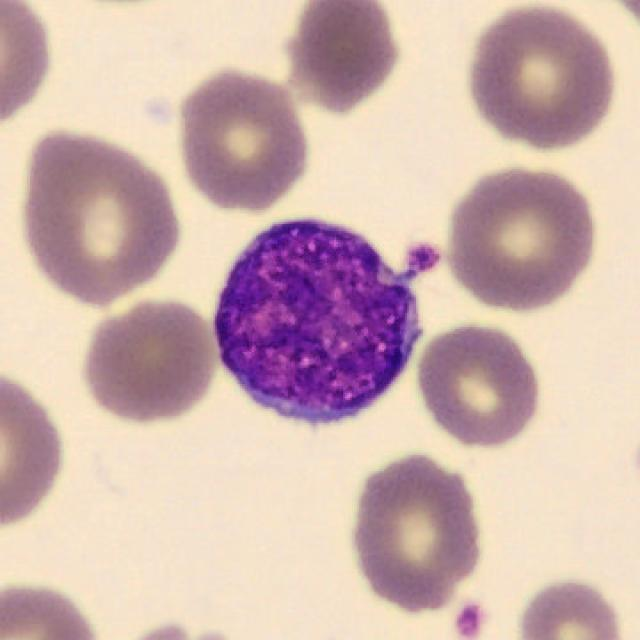Linfocito: (213, 220, 423, 423)
